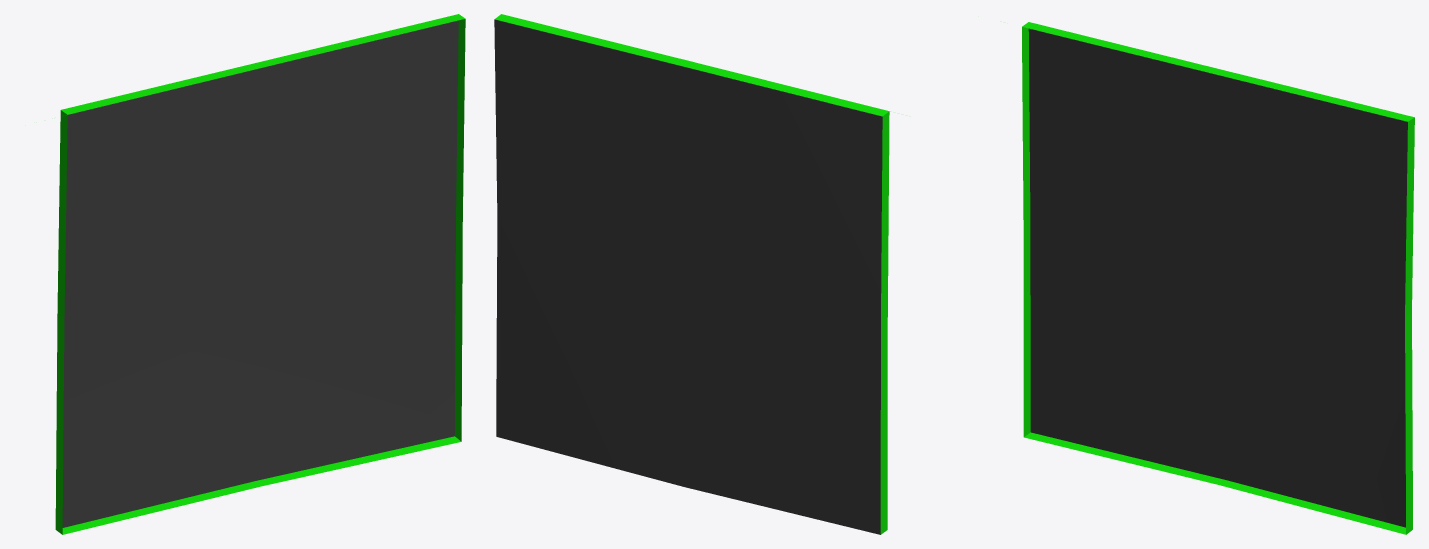
File: B_ordre 1.fbx
3 renders of one model, left to right at view 1: azimuth 30°, elevation 25°; view 2: azimuth 150°, elevation 25°; view 3: azimuth 330°, elevation 25°, orthographic. The views are drawn at different scales.
Visible parts, largest first — view 1: Ordre 1; view 2: Ordre 1; view 3: Ordre 1.
Part boxes in pixels (x1=…): Ordre 1: x1=55, y1=14, x2=465, y2=534; Ordre 1: x1=494, y1=14, x2=890, y2=534; Ordre 1: x1=1022, y1=22, x2=1414, y2=534.
Size of the model in its own units: 14.88 by 13.39 by 0.717.
